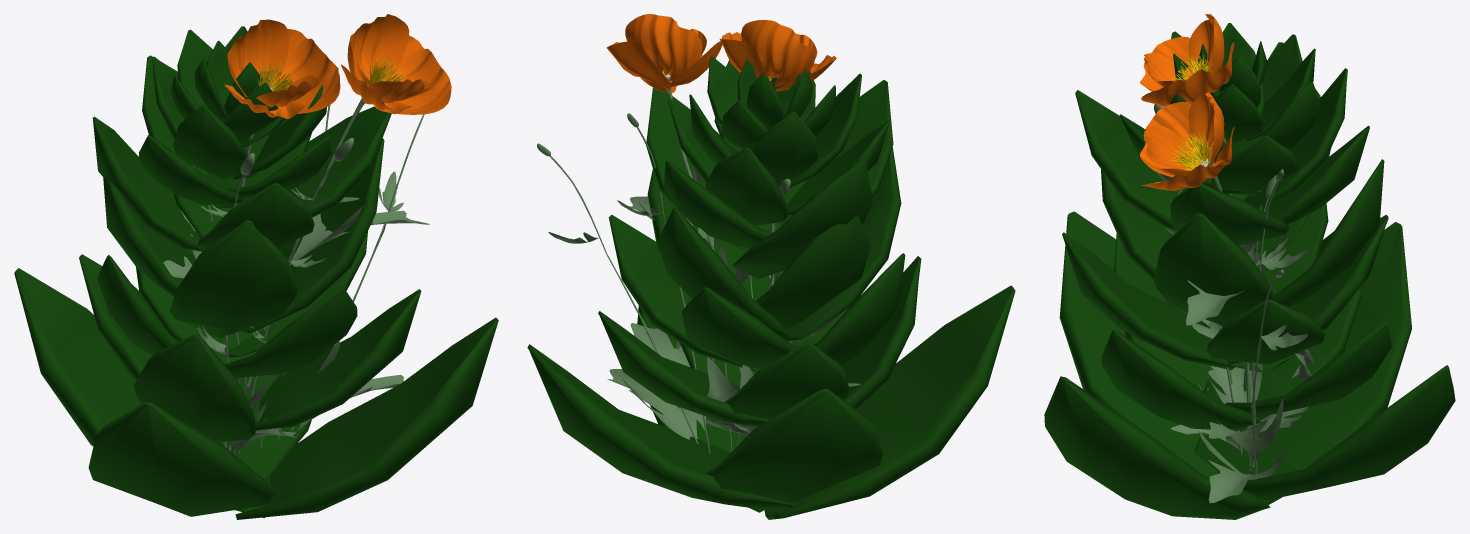
The model's file is avecilla.glb.
3 views of the same model, side by side, from view 1: azimuth 30°, elevation 25°; view 2: azimuth 150°, elevation 25°; view 3: azimuth 270°, elevation 25° (orthographic). The views are drawn at different scales.
Visible parts, largest first — view 1: Cube.033, Cube.032, GS Red poppy 01.001, Cube.035, Cube.020, GS Red poppy 01, Cube.029, Cube.028, Cube.021, Cube.016, Cube.025, Cube.018 (+21 smaller); view 2: Cube.032, Cube.035, Cube.034, GS Red poppy 01.001, GS Red poppy 01, Cube.023, Cube.016, Cube.026, Cube.030, Cube.031, Cube.027, Cube.022 (+20 smaller); view 3: GS Red poppy 01.001, Cube.033, Cube.035, Cube.034, Cube.032, GS Red poppy 01, Cube.021, Cube.025, Cube.029, Cube.017, Cube.022, Cube.030 (+18 smaller).
Part boxes in pixels (x1,y1,x2,y2): Cube.033: (235, 317, 498, 519); Cube.032: (88, 401, 274, 516); GS Red poppy 01.001: (228, 14, 451, 454); Cube.035: (14, 268, 269, 518); Cube.020: (170, 220, 298, 338); GS Red poppy 01: (163, 19, 359, 453); Cube.029: (255, 289, 421, 430); Cube.028: (134, 334, 255, 441); Cube.021: (242, 138, 384, 333); Cube.016: (92, 116, 200, 251); Cube.025: (225, 286, 357, 377); Cube.018: (288, 106, 391, 217); Cube.032: (764, 285, 1015, 519); Cube.035: (705, 388, 882, 503); Cube.034: (527, 344, 795, 511); GS Red poppy 01.001: (537, 14, 753, 451); GS Red poppy 01: (617, 20, 860, 453); Cube.023: (756, 216, 869, 329); Cube.016: (733, 160, 872, 278); Cube.026: (609, 215, 761, 372); Cube.030: (598, 311, 768, 426); Cube.031: (725, 342, 849, 419); Cube.027: (682, 287, 797, 368); Cube.022: (658, 207, 792, 340); GS Red poppy 01.001: (1140, 92, 1311, 503); Cube.033: (1044, 376, 1270, 519); Cube.035: (1194, 222, 1411, 512); Cube.034: (1243, 365, 1455, 500); Cube.032: (1059, 211, 1219, 477); GS Red poppy 01: (1140, 14, 1313, 473); Cube.021: (1153, 213, 1275, 326); Cube.025: (1062, 232, 1236, 370); Cube.029: (1101, 329, 1260, 430); Cube.017: (1075, 90, 1187, 230); Cube.022: (1274, 159, 1384, 306); Cube.030: (1226, 322, 1391, 417).
Size of the model in its own units: 12.22 by 14.69 by 10.87.
